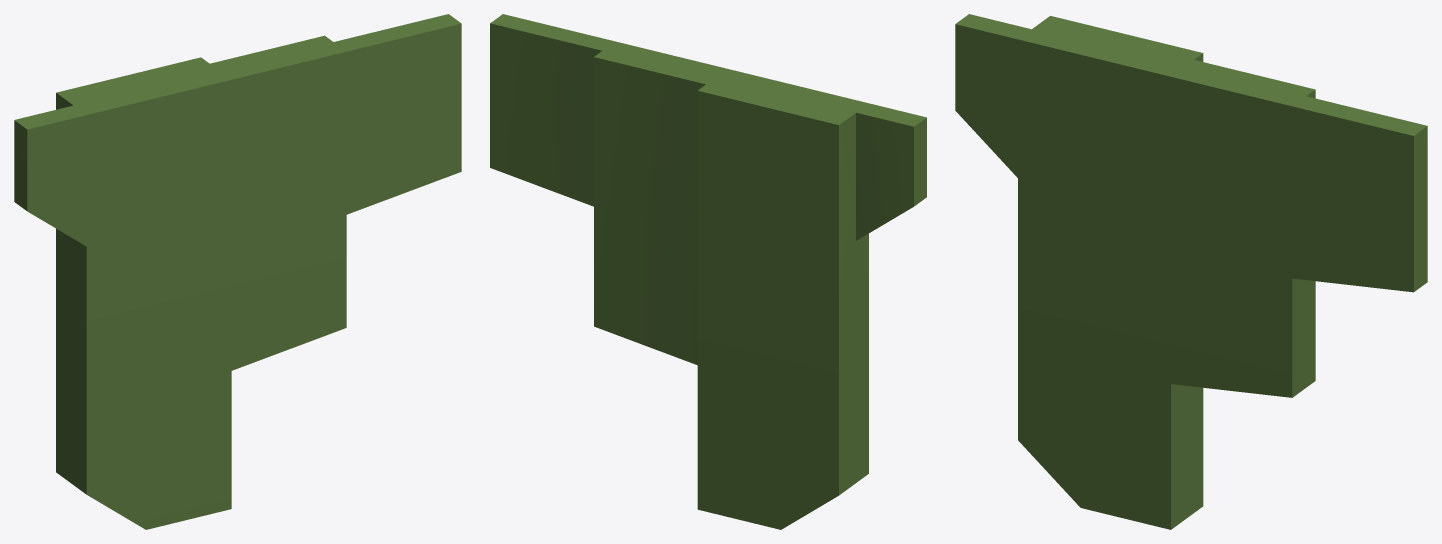
File: ivy.glb
The picture shows the model from 3 angles, left to right: view 1: azimuth 30°, elevation 25°; view 2: azimuth 150°, elevation 25°; view 3: azimuth 330°, elevation 25°; orthographic projection. The views are drawn at different scales.
Parts seen in each view (by area): view 1: ivy; view 2: ivy; view 3: ivy.
Part boxes in pixels (left/top/right/bottom): ivy: left=14, top=14, right=461, bottom=529; ivy: left=490, top=14, right=926, bottom=529; ivy: left=955, top=14, right=1427, bottom=529.
Size of the model in its own units: 1.8 by 1.7 by 0.22.
